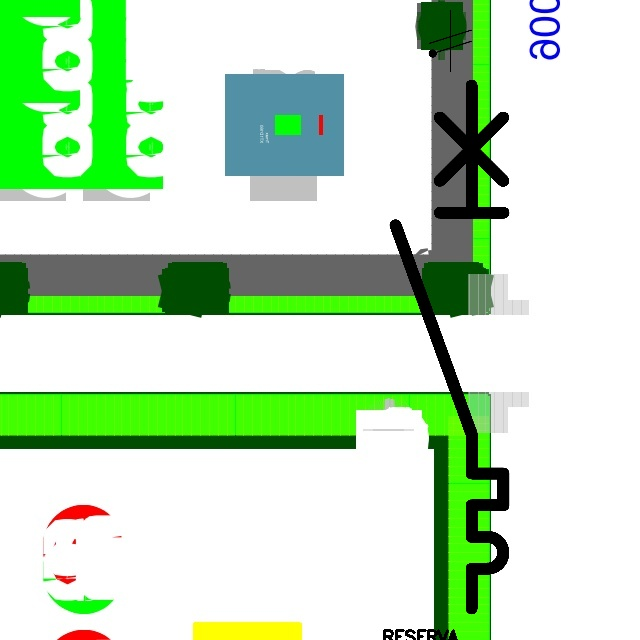interruptor_termomagnetico: (382, 72, 517, 622)
